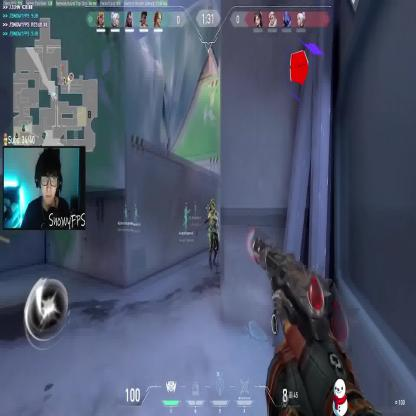enemy: (204, 196, 220, 267)
enemy_head: (209, 199, 216, 211)
